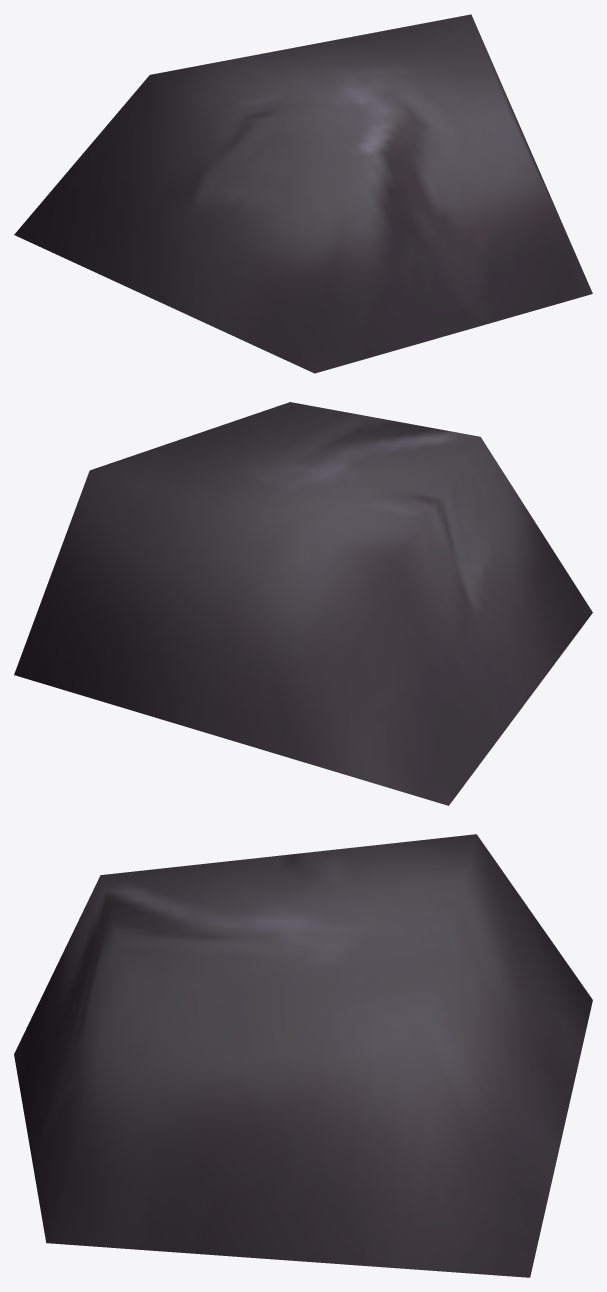
The model's file is yw_shanlin_stones_029.FBX.
The picture shows the model from 3 angles, top to bottom: view 1: azimuth 30°, elevation 25°; view 2: azimuth 150°, elevation 25°; view 3: azimuth 270°, elevation 25°; orthographic projection. The views are drawn at different scales.
Parts seen in each view (by area): view 1: yw_shanlin_stones_029; view 2: yw_shanlin_stones_029; view 3: yw_shanlin_stones_029.
Boxes of the visible parts, <box> form: yw_shanlin_stones_029: <box>14,14,592,373</box>; yw_shanlin_stones_029: <box>14,402,592,805</box>; yw_shanlin_stones_029: <box>14,834,592,1277</box>.
Size of the model in its own units: 35.98 by 13.64 by 31.7.
